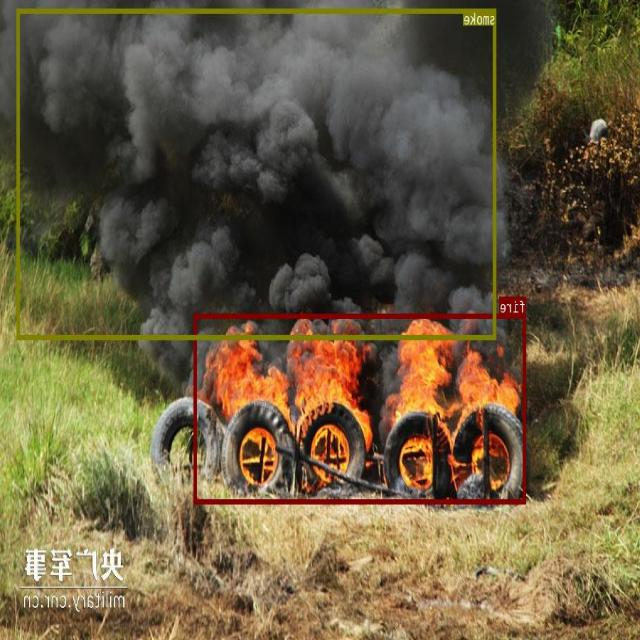fire: (194, 313, 527, 503)
smoke: (17, 8, 497, 339)
